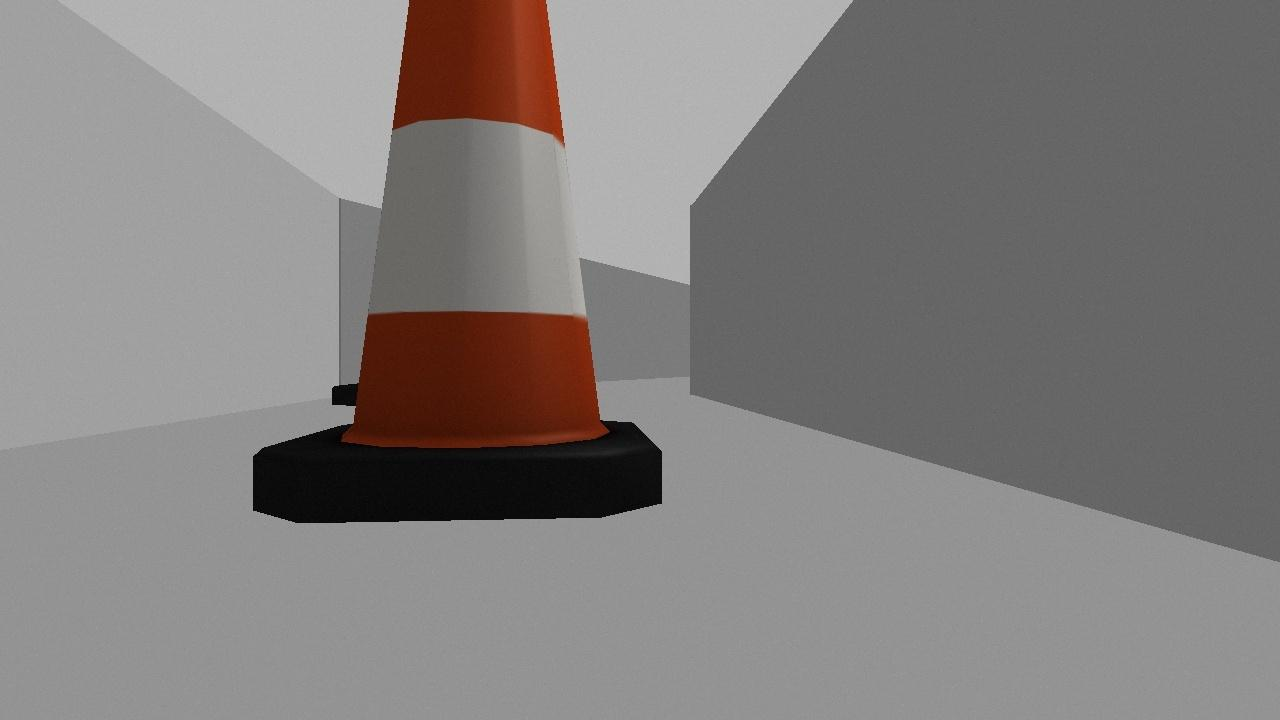cone_barrel: (231, 0, 674, 535)
